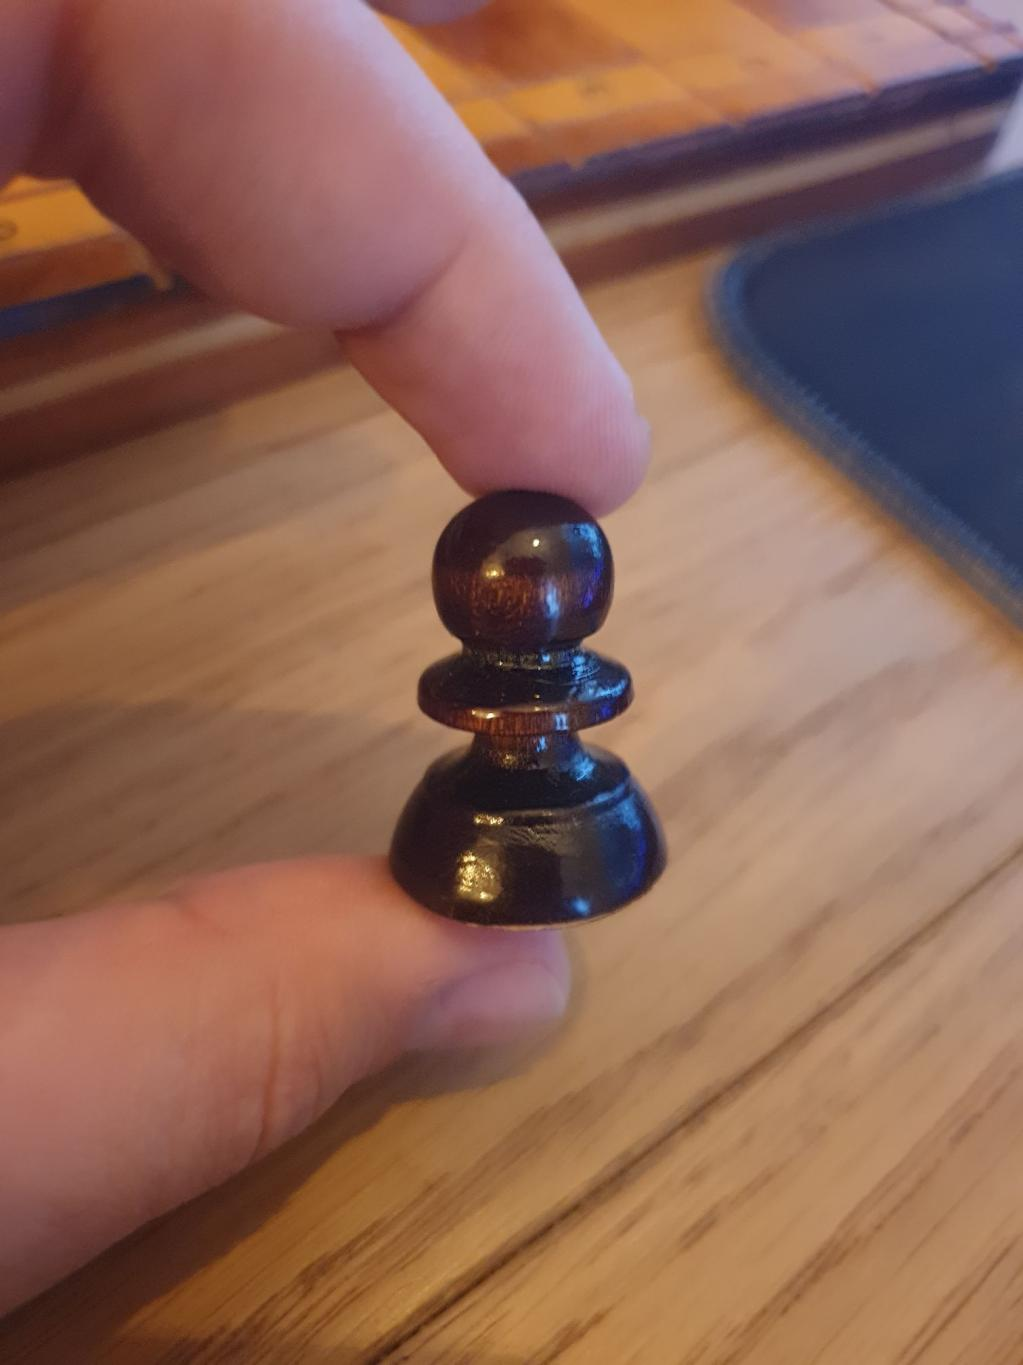bpawn: (385, 487, 664, 926)
